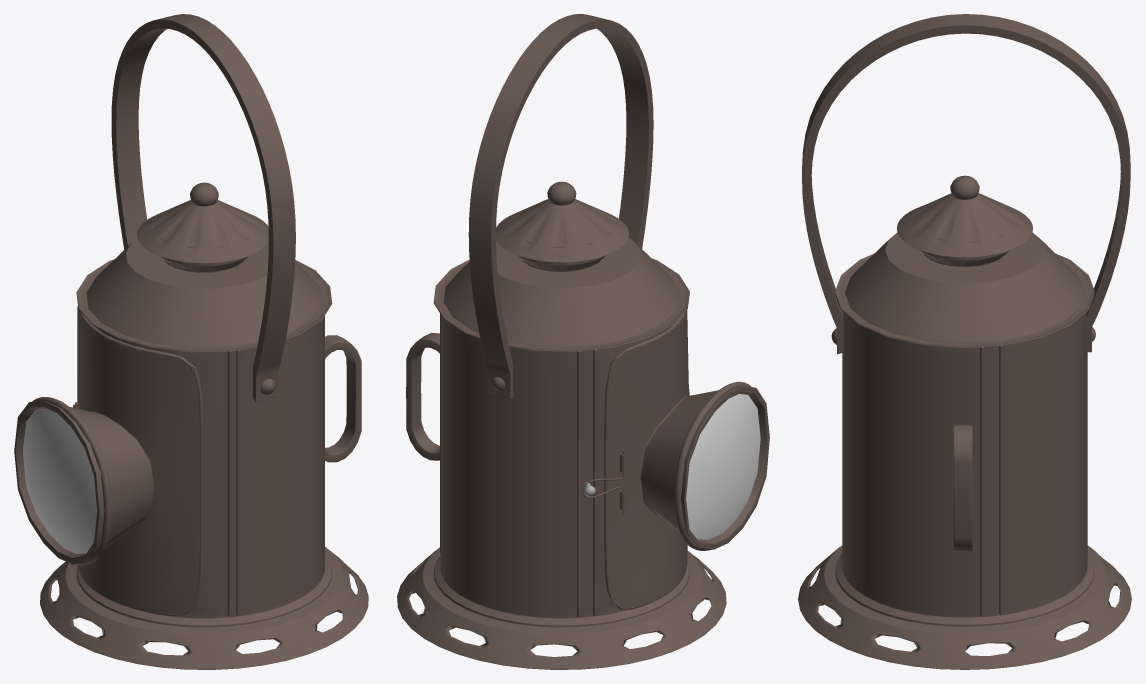
The model's file is uploads_files_3854186_railway+lantern.fbx.
3 renders of one model, left to right at view 1: azimuth 30°, elevation 25°; view 2: azimuth 150°, elevation 25°; view 3: azimuth 270°, elevation 25°, orthographic.
Visible parts, largest first — view 1: train_lantern_lamp_body, train_lantern_lamp_lid, train_lantern_lamp_head, handle, train_lantern_lamp_glass, train_lantern_top, secondary_handle, gate_wire, wire_rim, pCylinder4, pCylinder1; view 2: train_lantern_lamp_body, train_lantern_lamp_lid, train_lantern_lamp_head, handle, train_lantern_lamp_glass, train_lantern_top, secondary_handle, gate_wire, wire_rim, pCylinder3, pCylinder2; view 3: train_lantern_lamp_body, train_lantern_lamp_head, handle, train_lantern_top, secondary_handle, pCylinder5, pCylinder6.
Boxes of the visible parts, x1,y1,x2,y2 form: train_lantern_lamp_body: (40, 316, 368, 669); train_lantern_lamp_lid: (14, 306, 199, 615); train_lantern_lamp_head: (76, 212, 332, 352); handle: (111, 14, 295, 402); train_lantern_lamp_glass: (23, 408, 96, 553); train_lantern_top: (137, 182, 268, 263); secondary_handle: (325, 335, 361, 462); gate_wire: (77, 307, 203, 616); wire_rim: (22, 397, 111, 565); pCylinder4: (236, 350, 240, 615); pCylinder1: (227, 351, 231, 616); train_lantern_lamp_body: (397, 315, 726, 669); train_lantern_lamp_lid: (608, 310, 769, 609); train_lantern_lamp_head: (433, 215, 689, 351); handle: (468, 14, 653, 399); train_lantern_lamp_glass: (686, 394, 760, 539); train_lantern_top: (496, 181, 628, 262); secondary_handle: (406, 333, 439, 460); gate_wire: (604, 311, 686, 609); wire_rim: (674, 381, 751, 550); pCylinder3: (577, 351, 581, 617); pCylinder2: (593, 349, 597, 615); train_lantern_lamp_body: (798, 311, 1131, 669); train_lantern_lamp_head: (835, 208, 1094, 347); handle: (802, 14, 1130, 354); train_lantern_top: (896, 175, 1033, 257); secondary_handle: (953, 425, 972, 552); pCylinder5: (980, 346, 984, 616); pCylinder6: (999, 345, 1003, 614).
Size of the model in its own units: 4.56 by 8.04 by 4.19.
